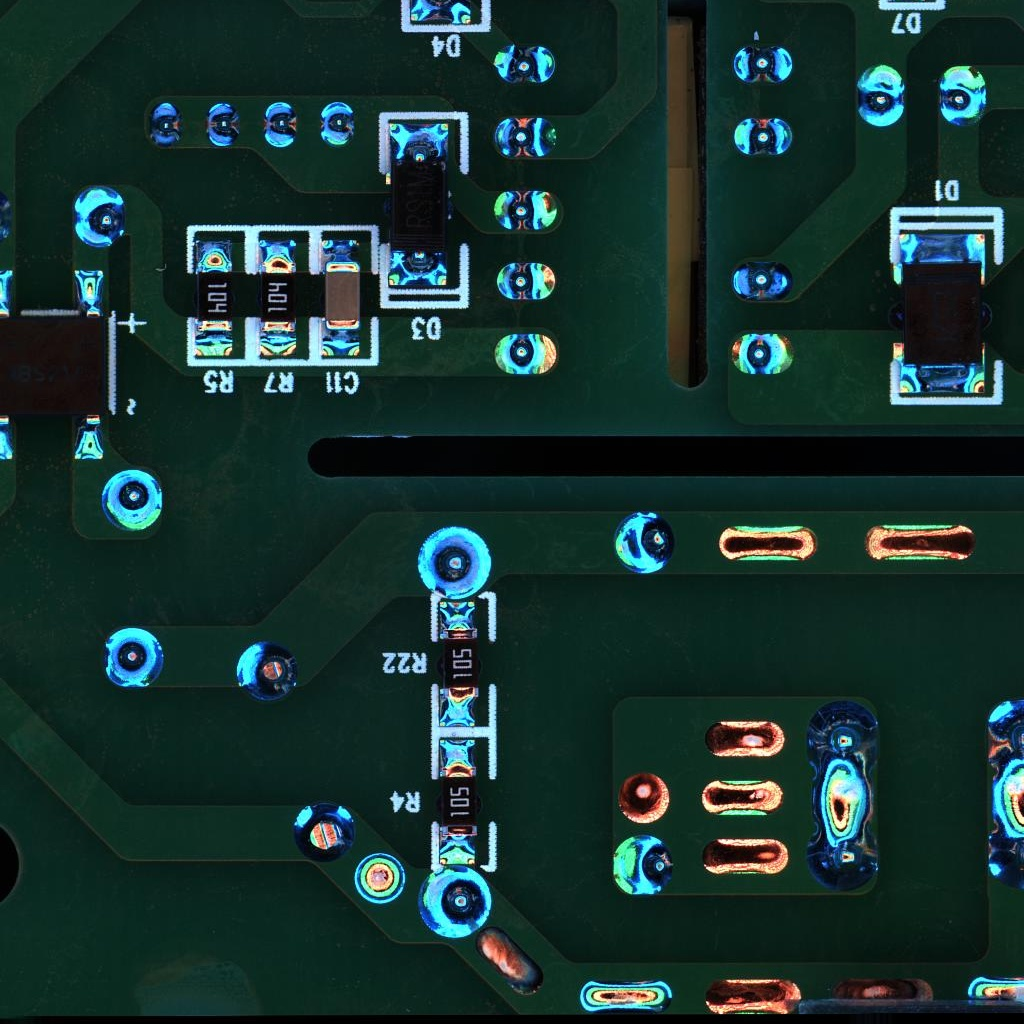spot: (415, 523, 494, 601), (805, 697, 881, 775), (415, 868, 495, 941), (805, 821, 881, 894), (97, 468, 167, 534), (609, 833, 677, 900), (101, 622, 165, 692), (609, 509, 677, 574), (232, 639, 300, 704), (290, 798, 358, 863), (69, 182, 128, 249), (855, 62, 906, 129), (350, 849, 407, 907), (727, 331, 797, 378), (936, 64, 989, 126), (489, 187, 561, 232), (493, 331, 559, 378), (492, 116, 560, 160), (492, 43, 559, 86), (728, 45, 797, 86), (984, 696, 1024, 765), (730, 114, 794, 156), (495, 262, 559, 303), (732, 260, 795, 300), (984, 828, 1024, 886), (261, 99, 299, 150), (145, 99, 184, 148), (205, 100, 240, 150), (319, 99, 356, 146)
